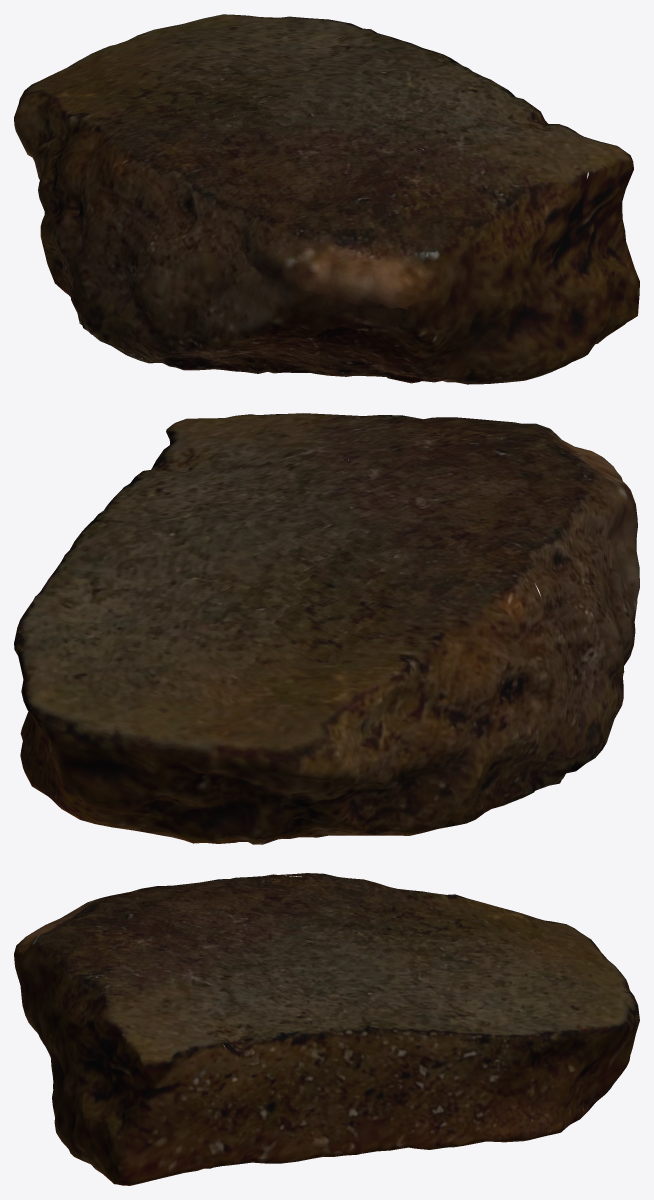
Rendered from nke.glb.
3 views of the same model, one above another, from view 1: azimuth 30°, elevation 25°; view 2: azimuth 150°, elevation 25°; view 3: azimuth 270°, elevation 25° (orthographic). The views are drawn at different scales.
Size of the model in its own units: 0.0385 by 0.0149 by 0.0515.
Materials: 1 (1 with a texture image).
